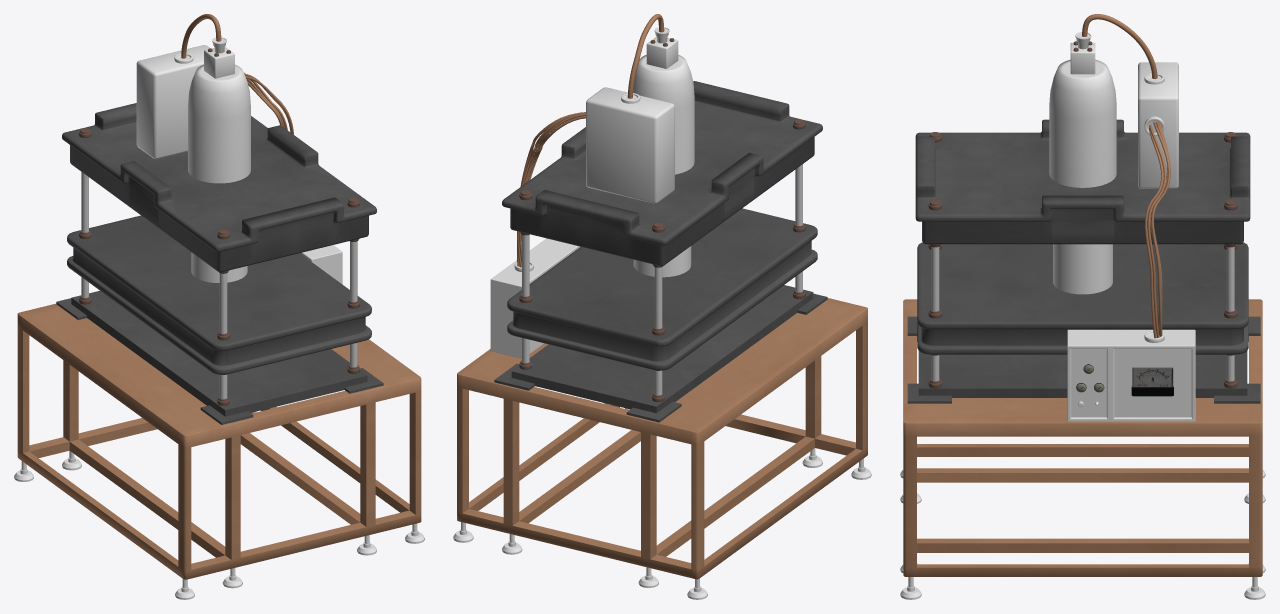
Rendered from Pressure Machine .fbx.
The picture shows the model from 3 angles, left to right: view 1: azimuth 30°, elevation 25°; view 2: azimuth 150°, elevation 25°; view 3: azimuth 270°, elevation 25°; orthographic projection. The views are drawn at different scales.
Parts seen in each view (by area): view 1: Machine Frame.001, Machine Cap.001, Upper Platen.001, Lower Platen.001, Hydraulic Cylinder Body.001, Oil Tank.001, Main Post.001, Base Post.008, Control Box.001, Piston.001, Cylinder Cap.002, Power Cord.013; view 2: Machine Frame.001, Upper Platen.001, Machine Cap.001, Lower Platen.001, Oil Tank.001, Hydraulic Cylinder Body.001, Control Box.001, Main Post.001, Base Post.008, Power Cord.013, Piston.001, Cylinder Cap.002 (+1 smaller); view 3: Machine Frame.001, Machine Cap.001, Upper Platen.001, Control Box.001, Lower Platen.001, Hydraulic Cylinder Body.001, Oil Tank.001, Piston.001, Power Cord.013, Main Post.001, Square Clock.001, Base Post.008 (+2 smaller).
Part boxes in pixels (x1,y1,x2,y2): Machine Frame.001: [17, 303, 421, 579]; Machine Cap.001: [62, 103, 376, 272]; Upper Platen.001: [67, 215, 371, 374]; Lower Platen.001: [56, 290, 383, 424]; Hydraulic Cylinder Body.001: [188, 64, 250, 183]; Oil Tank.001: [136, 45, 209, 159]; Main Post.001: [81, 172, 357, 399]; Base Post.008: [14, 411, 424, 599]; Control Box.001: [300, 245, 342, 284]; Piston.001: [191, 252, 247, 282]; Cylinder Cap.002: [204, 47, 234, 78]; Power Cord.013: [244, 72, 293, 134]; Machine Frame.001: [457, 298, 867, 579]; Upper Platen.001: [507, 208, 817, 370]; Machine Cap.001: [502, 81, 822, 265]; Lower Platen.001: [494, 285, 827, 422]; Oil Tank.001: [586, 87, 674, 203]; Hydraulic Cylinder Body.001: [633, 55, 694, 174]; Control Box.001: [490, 238, 580, 358]; Main Post.001: [522, 164, 802, 395]; Base Post.008: [453, 408, 871, 599]; Power Cord.013: [517, 112, 585, 267]; Piston.001: [633, 246, 691, 277]; Cylinder Cap.002: [646, 37, 678, 68]; Machine Frame.001: [903, 299, 1262, 576]; Machine Cap.001: [915, 119, 1250, 244]; Upper Platen.001: [917, 242, 1248, 354]; Control Box.001: [1067, 329, 1195, 421]; Lower Platen.001: [907, 316, 1260, 403]; Hydraulic Cylinder Body.001: [1049, 59, 1116, 187]; Oil Tank.001: [1138, 62, 1178, 188]; Piston.001: [1053, 244, 1112, 294]; Power Cord.013: [1144, 121, 1170, 338]; Main Post.001: [931, 247, 1234, 381]; Square Clock.001: [1131, 367, 1173, 396]; Base Post.008: [900, 470, 1265, 599].
Bounding box in the file's own units: 112 × 211 × 134.
